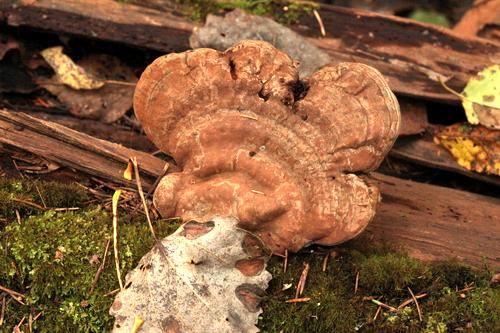Ganoderma - Fruit Body: (131, 40, 402, 260)
